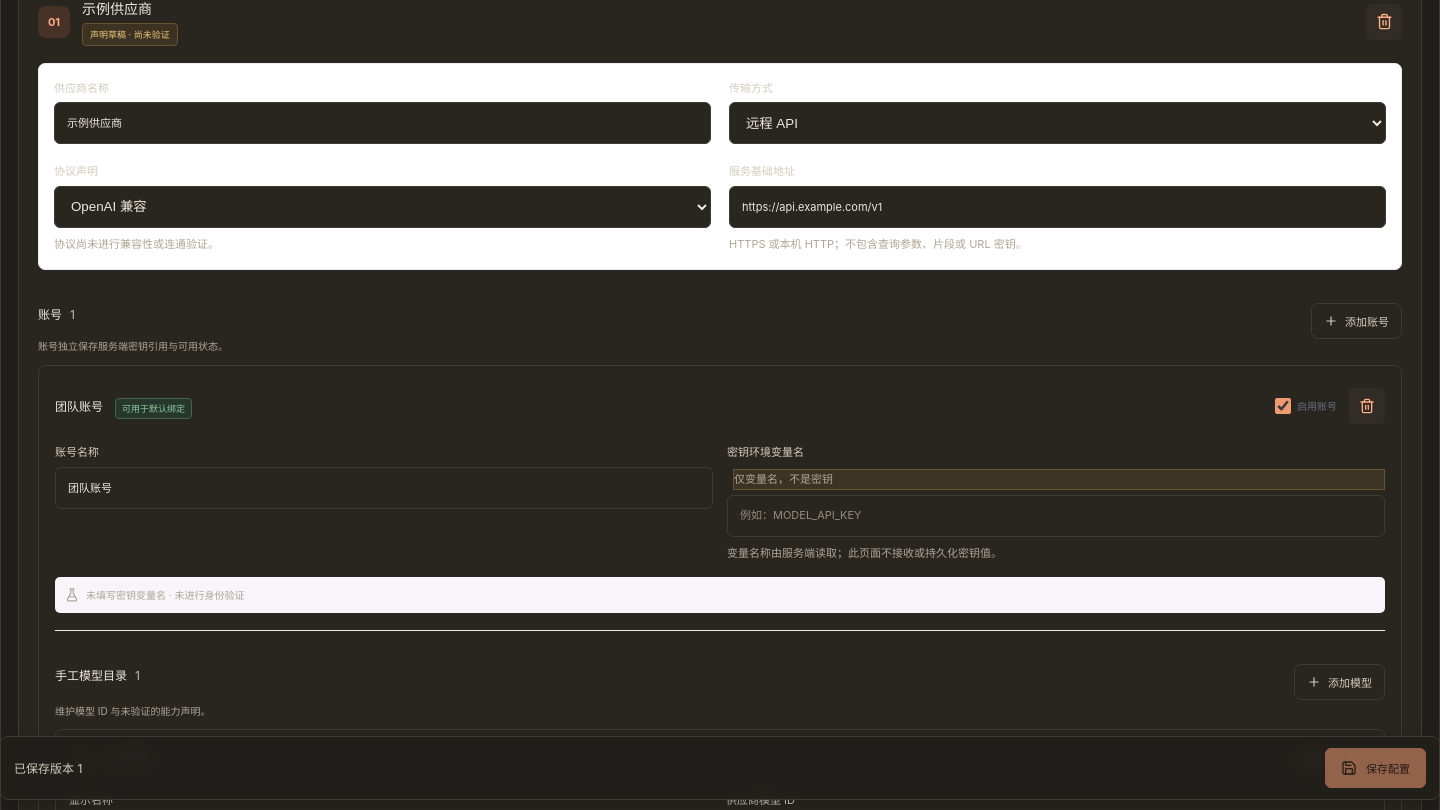
Test: 模型配置 v2 › 删除引用了图像默认绑定的账号时将图像路由回退为 mock-svg
(page scrolled)
Check: the heading "示例供应商" is shown, box [82, 0, 152, 17]
Click the button named "删除账号 团队账号". click: (1367, 406)
box: [1349, 388, 1385, 424]
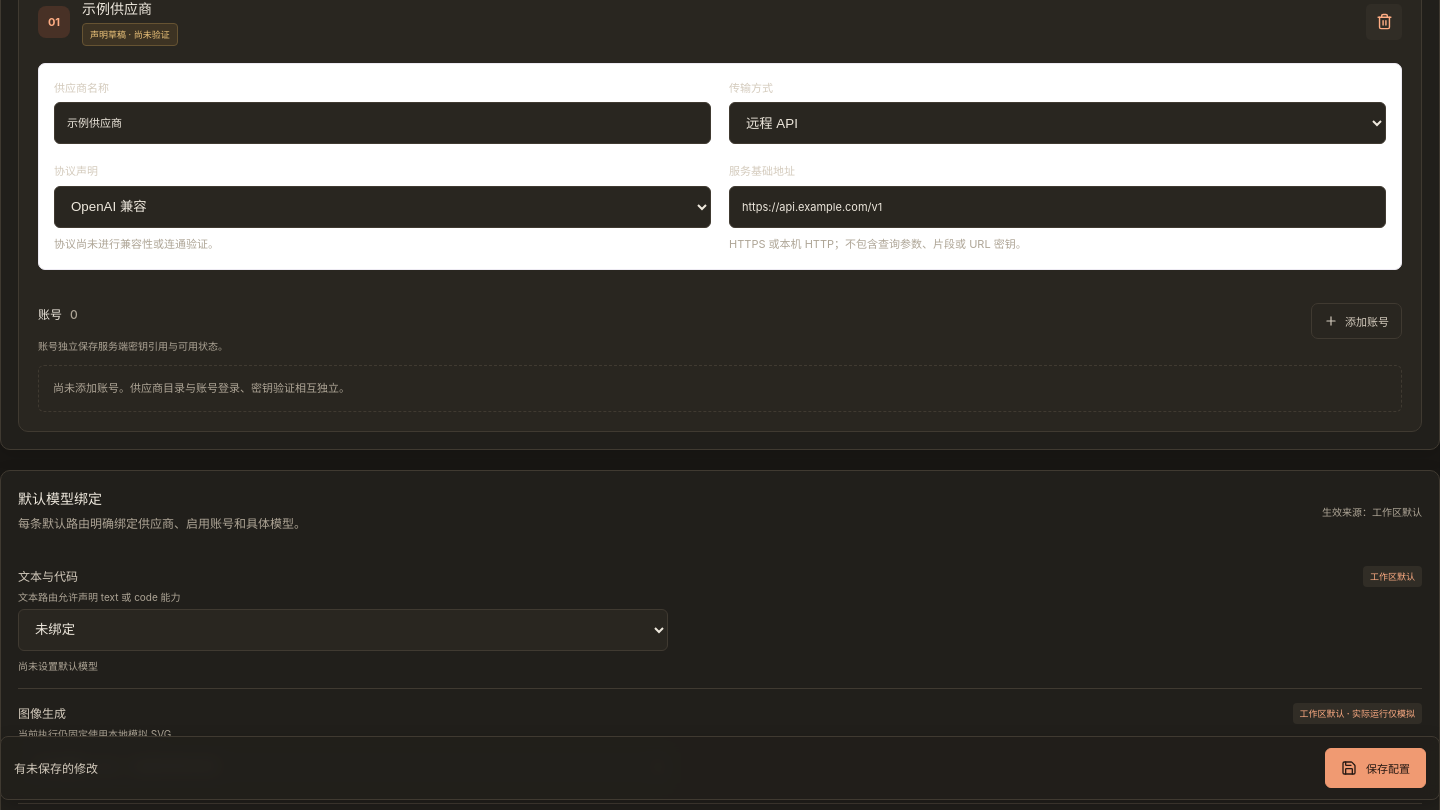
Click the button "保存配置". click: (1376, 768)
box: [1325, 748, 1426, 788]
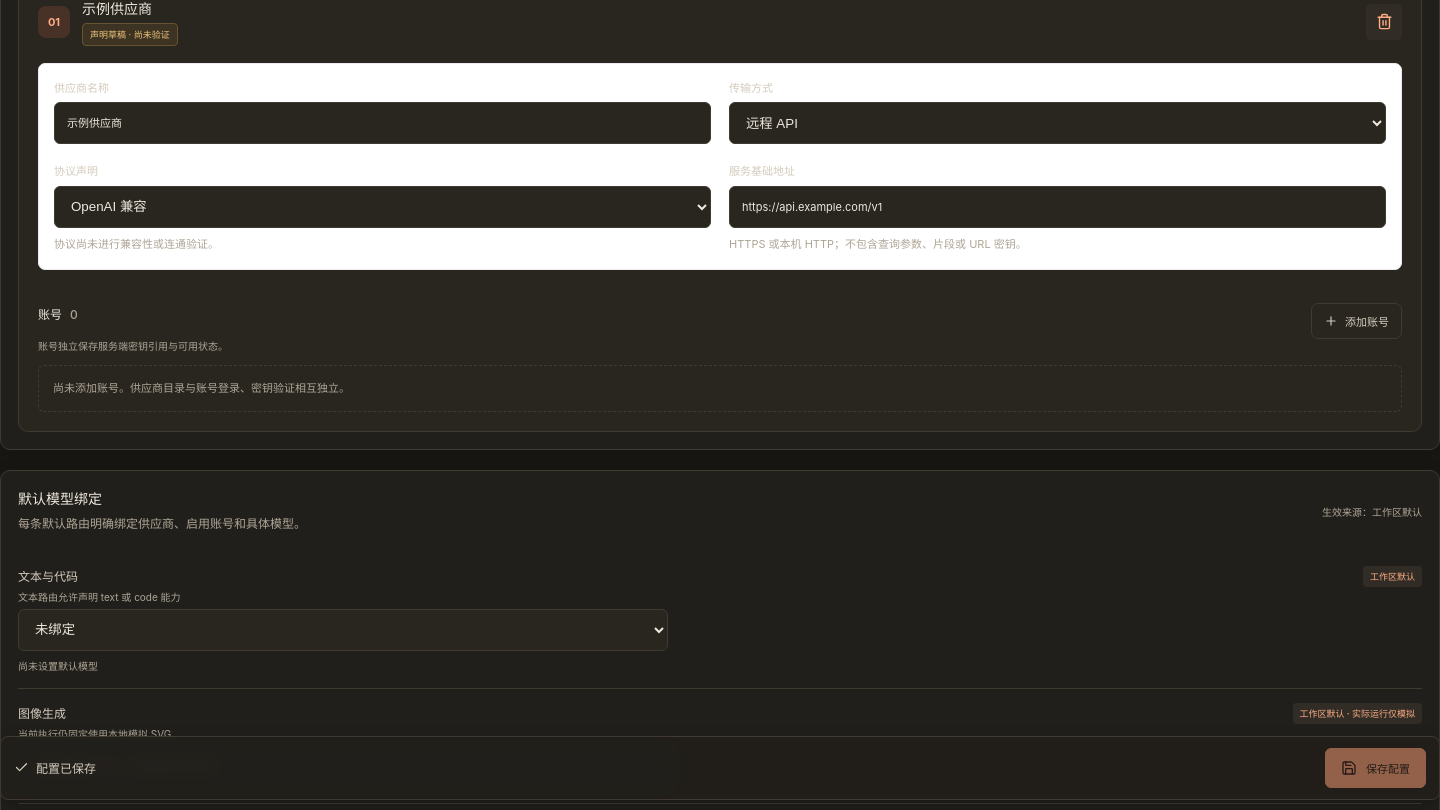
Check: the text "配置已保存" is shown, box [14, 760, 96, 776]
